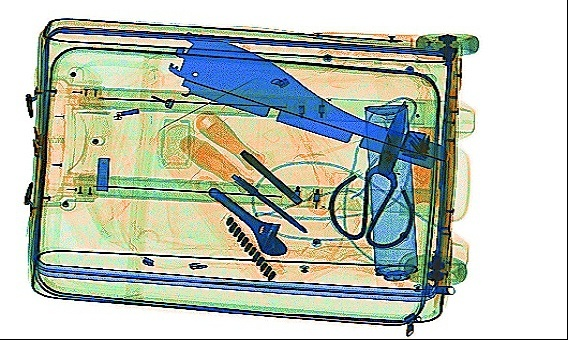pressure: (364, 101, 419, 298)
scissors: (327, 99, 414, 248)
